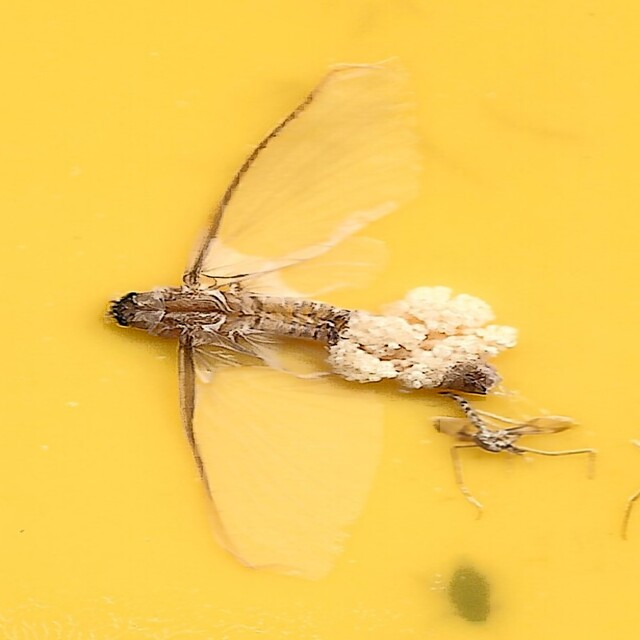Ephemeroptera: (104, 64, 500, 576)
Nematocera: (441, 392, 536, 462)
